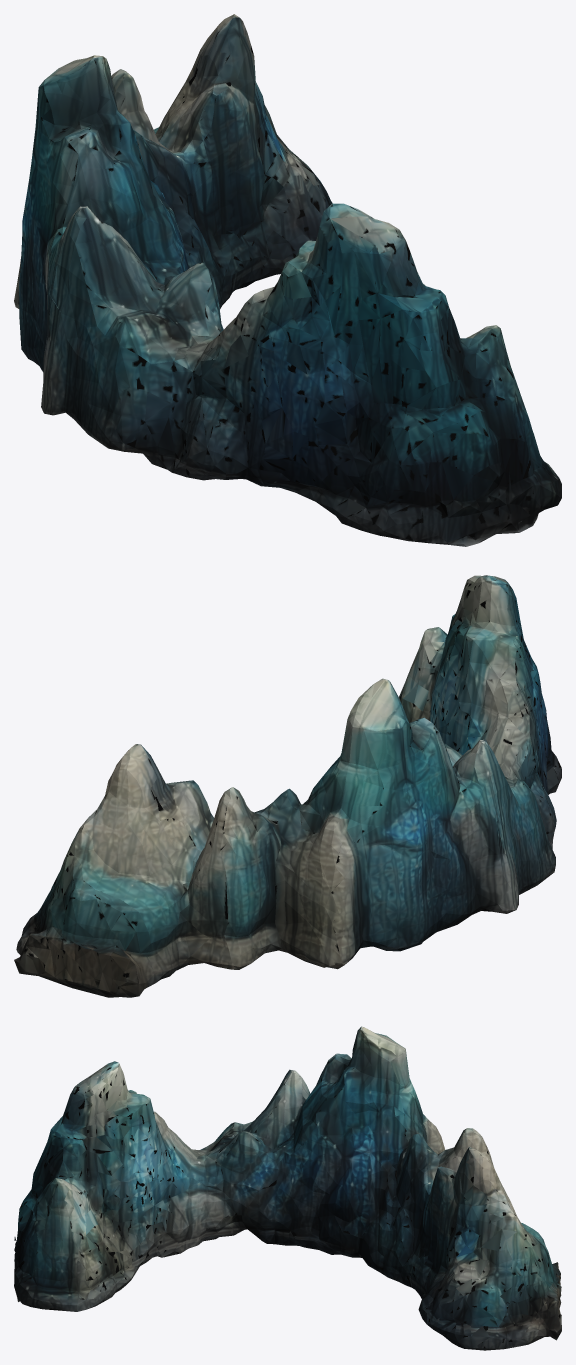
File: rock_14.glb
3 renders of one model, top to bottom at view 1: azimuth 30°, elevation 25°; view 2: azimuth 150°, elevation 25°; view 3: azimuth 270°, elevation 25°, orthographic. The views are drawn at different scales.
Visible parts, largest first — view 1: test (5); view 2: test (5); view 3: test (5).
Boxes of the visible parts, left/top/right/bottom form: test (5): left=14, top=14, right=561, bottom=546; test (5): left=14, top=575, right=561, bottom=997; test (5): left=14, top=1026, right=561, bottom=1350.
Size of the model in its own units: 2.87 by 2.03 by 4.59.
Materials: 1 (1 with a texture image).
